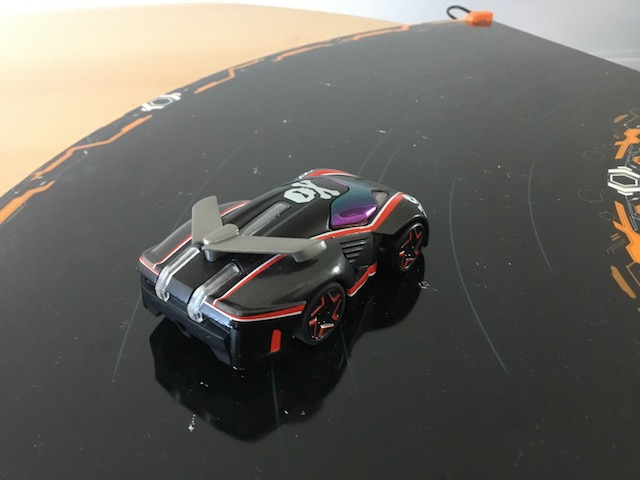car-red: (132, 160, 436, 377)
